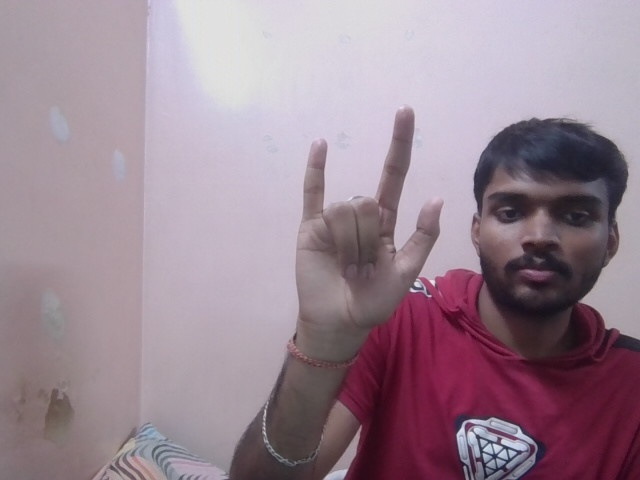I Love You: (290, 108, 443, 336)
